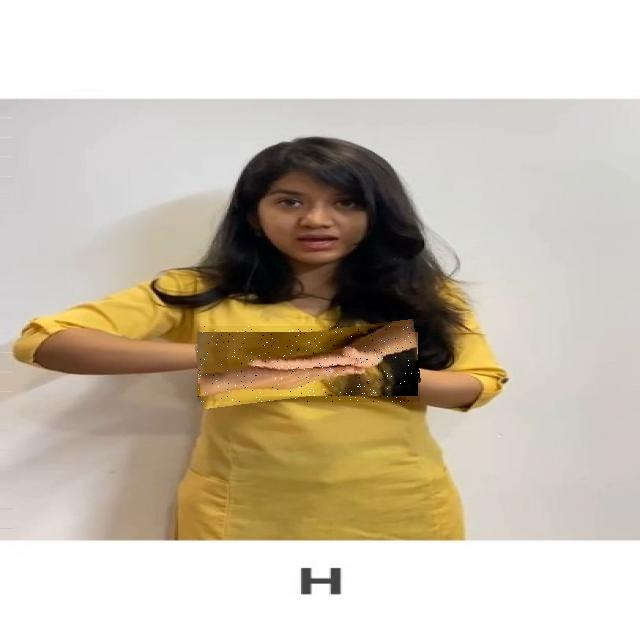H: (197, 326, 420, 402)
